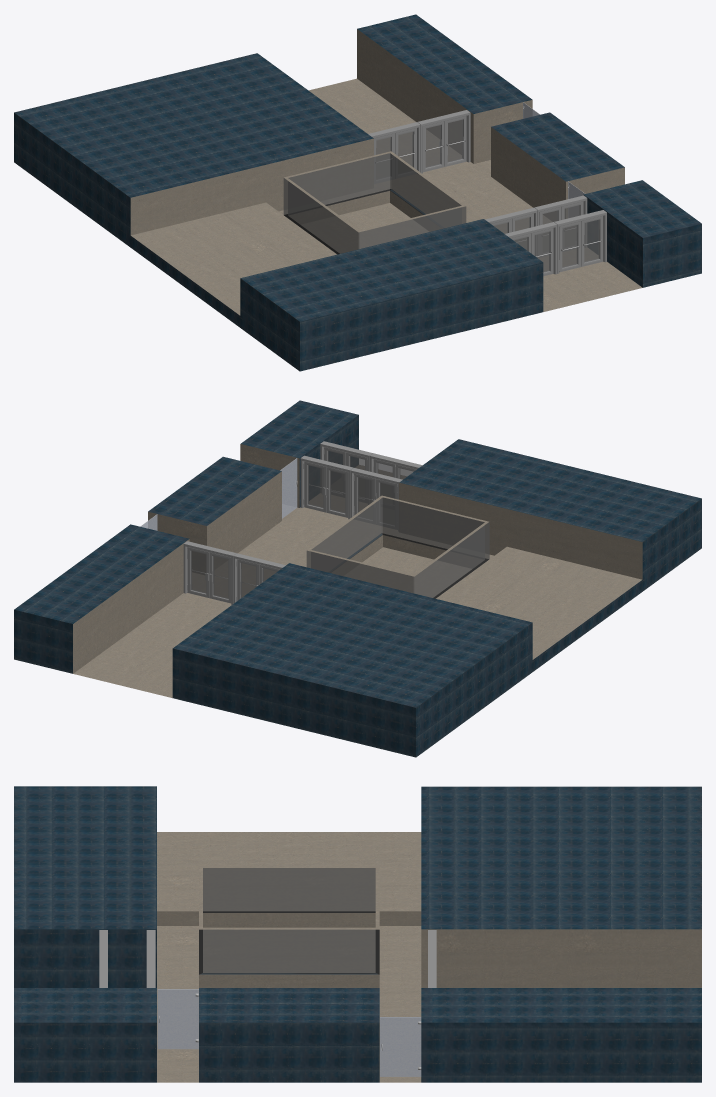
File: school.gltf
3 views of the same model, one above another, from view 1: azimuth 30°, elevation 25°; view 2: azimuth 150°, elevation 25°; view 3: azimuth 270°, elevation 25° (orthographic). The views are drawn at different scales.
Visible parts, largest first — view 1: school, door_left.002, door_right.005, door_right.002, door_left.005, door_right.004, door_left.004, door_right.003, border_door_entry.right.002, border_door_entry.right.001, door_right.001; view 2: school, door_right.001, door_left.005, door_right.005, door_left.001, door_right, door_left, glass_door_1, door_right.004, border_door_entry.right.002, border_door_entry.right, door_right.002 (+1 smaller); view 3: school, glass_door_1, glass_door_2.
Boxes of the visible parts, x1,y1,x2,y2 form: school: [14, 14, 701, 371]; door_left.002: [559, 221, 581, 272]; door_right.005: [444, 116, 466, 166]; door_right.002: [581, 216, 603, 266]; door_left.005: [423, 121, 444, 172]; door_right.004: [395, 128, 416, 178]; door_left.004: [374, 133, 394, 183]; door_right.003: [531, 228, 553, 276]; border_door_entry.right.002: [417, 110, 470, 173]; border_door_entry.right.001: [554, 210, 606, 273]; door_right.001: [561, 201, 583, 251]; school: [14, 400, 701, 757]; door_right.001: [303, 461, 326, 512]; door_left.005: [209, 552, 231, 603]; door_right.005: [187, 547, 209, 597]; door_left.001: [326, 467, 347, 517]; door_right: [353, 473, 376, 524]; door_left: [376, 479, 397, 529]; glass_door_1: [280, 458, 297, 518]; door_right.004: [236, 559, 259, 600]; border_door_entry.right.002: [183, 541, 236, 604]; border_door_entry.right: [300, 455, 353, 519]; door_right.002: [323, 447, 345, 497]; school: [14, 786, 701, 1082]; glass_door_1: [157, 989, 198, 1049]; glass_door_2: [380, 1017, 421, 1076].
Size of what is drawn, in the model's own units: 3.97 by 0.4718 by 4.89.
Materials: 29 (4 with a texture image).
